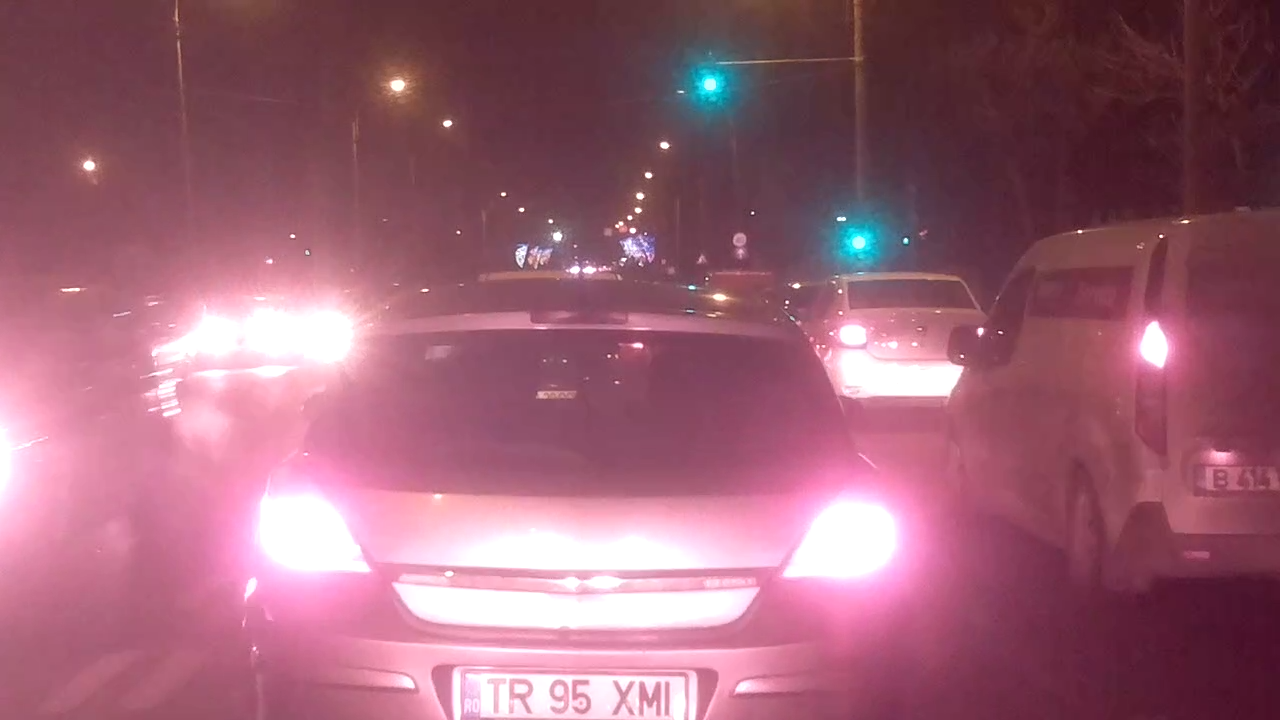license-plate: (453, 665, 695, 719)
